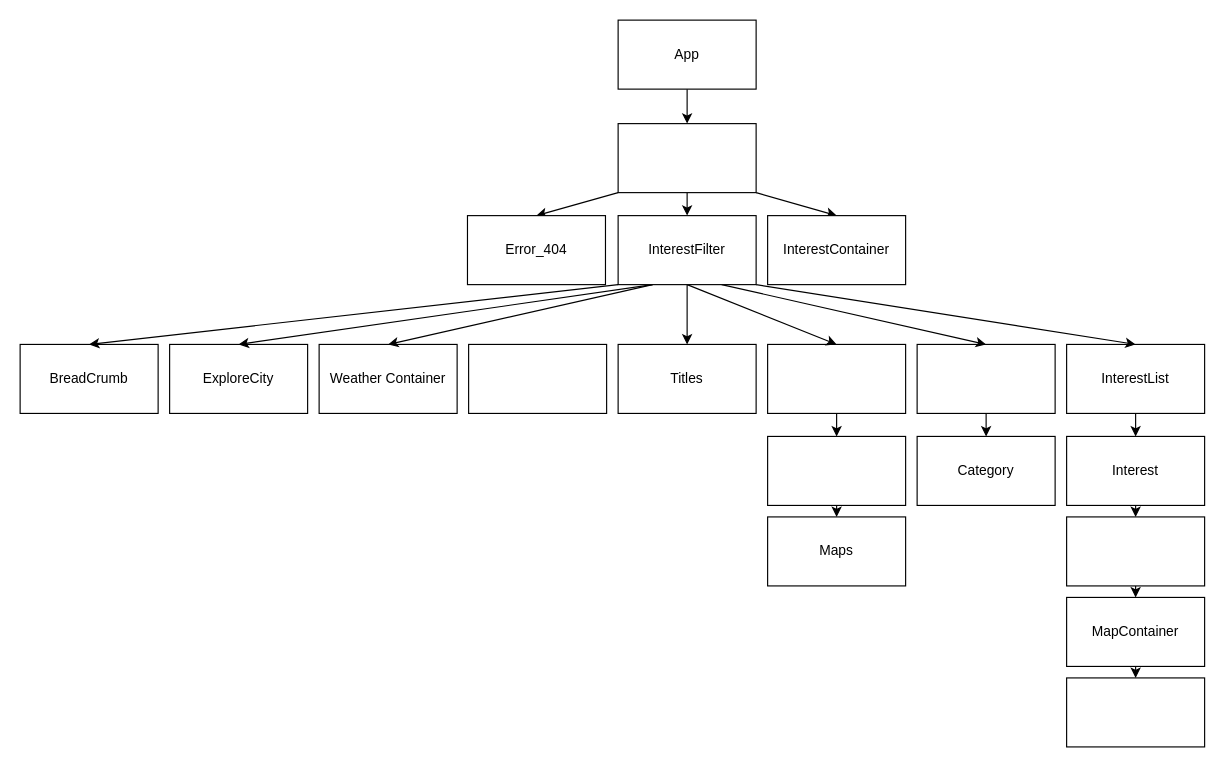
The diagram is 1225 pixels wide and 767 high, and some of its shapes have lost their labels. The shapes that lost their labels are listed below. From the top down, each one's box as (x1, y1, x2, y2) in pixels, then its label:
(617, 122, 756, 193): Advisor
(467, 343, 607, 413): GoPlay
(766, 343, 906, 413): Planning
(916, 343, 1055, 413): CategoryList
(766, 435, 906, 505): MapInterests
(1065, 516, 1205, 586): Details
(1065, 677, 1205, 747): Map
